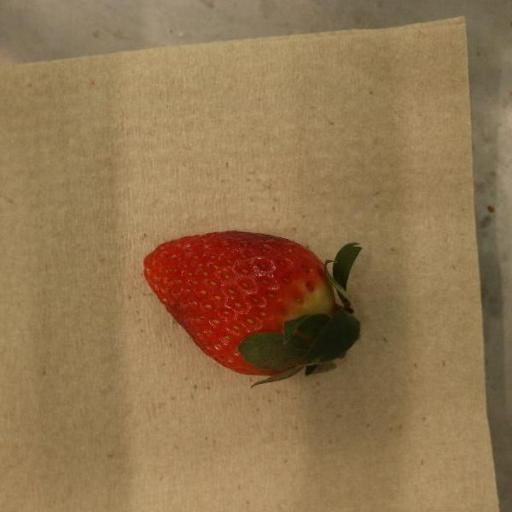Strawberry: (143, 231, 363, 387)
